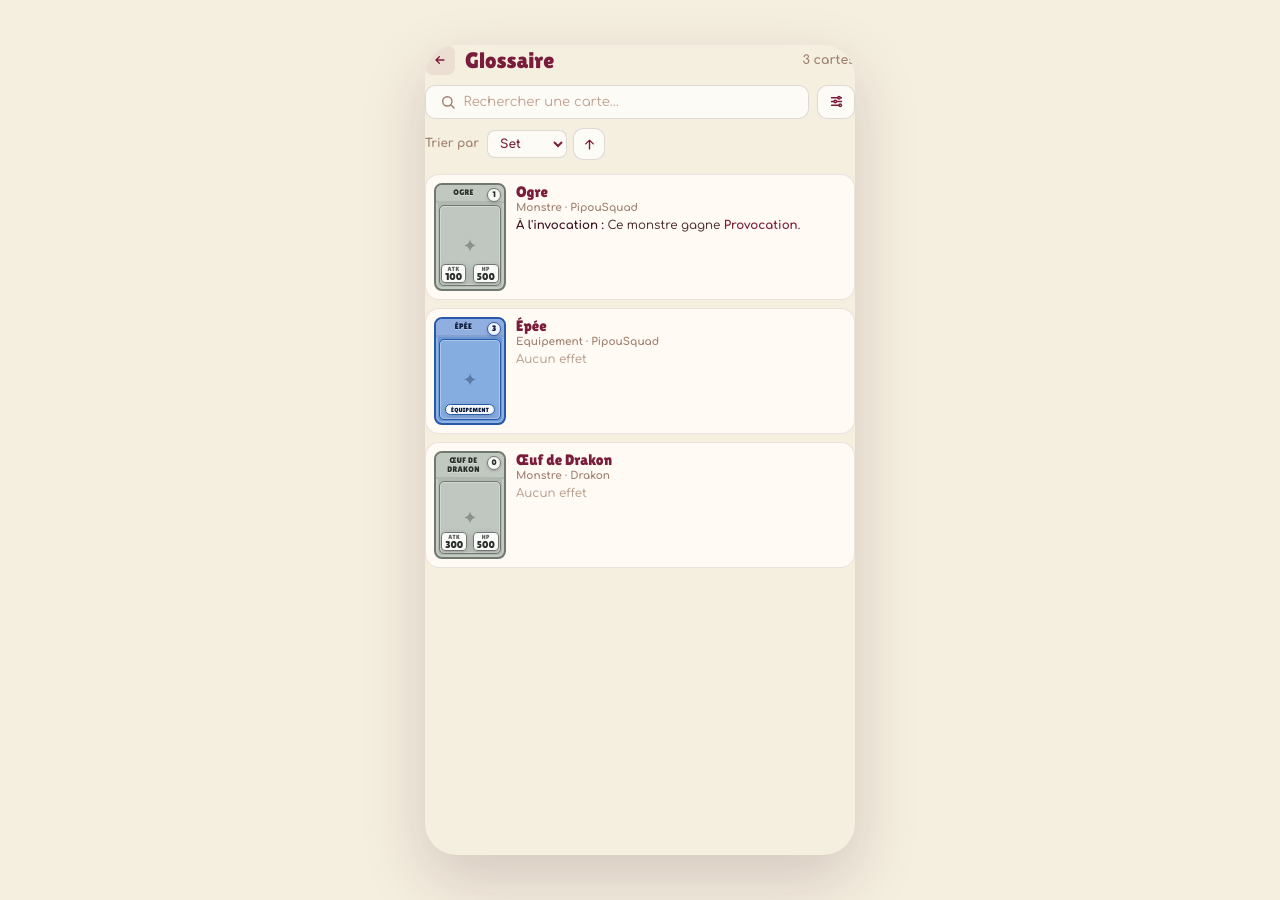
it: CardGlossary › ouvre la fiche du combat au toucher d'une carte
Click the button with aria-label "Voir Ogre" at [470, 237], box [425,174,855,300]
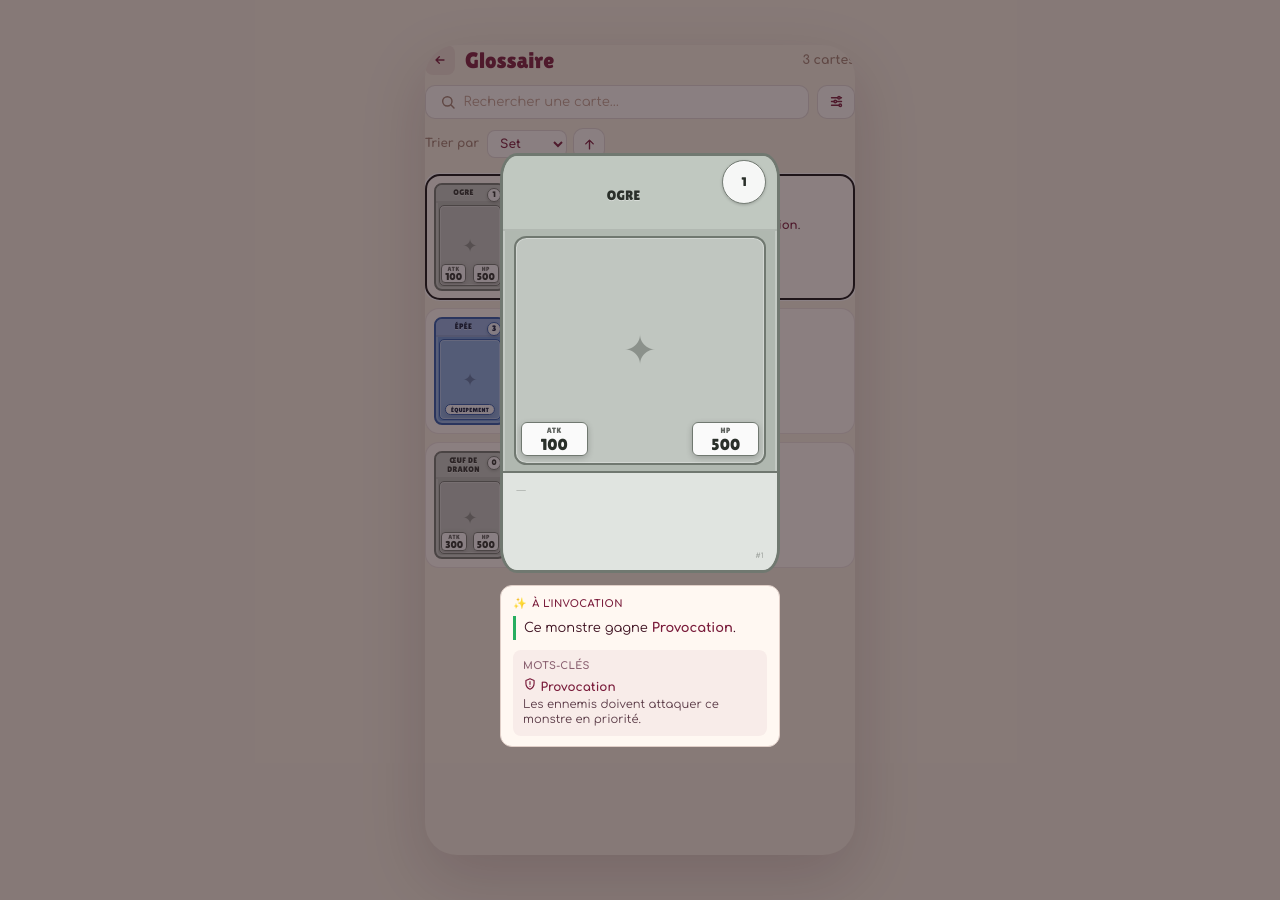
Now the text "Provocation" is shown, box [523,677,616,694]
